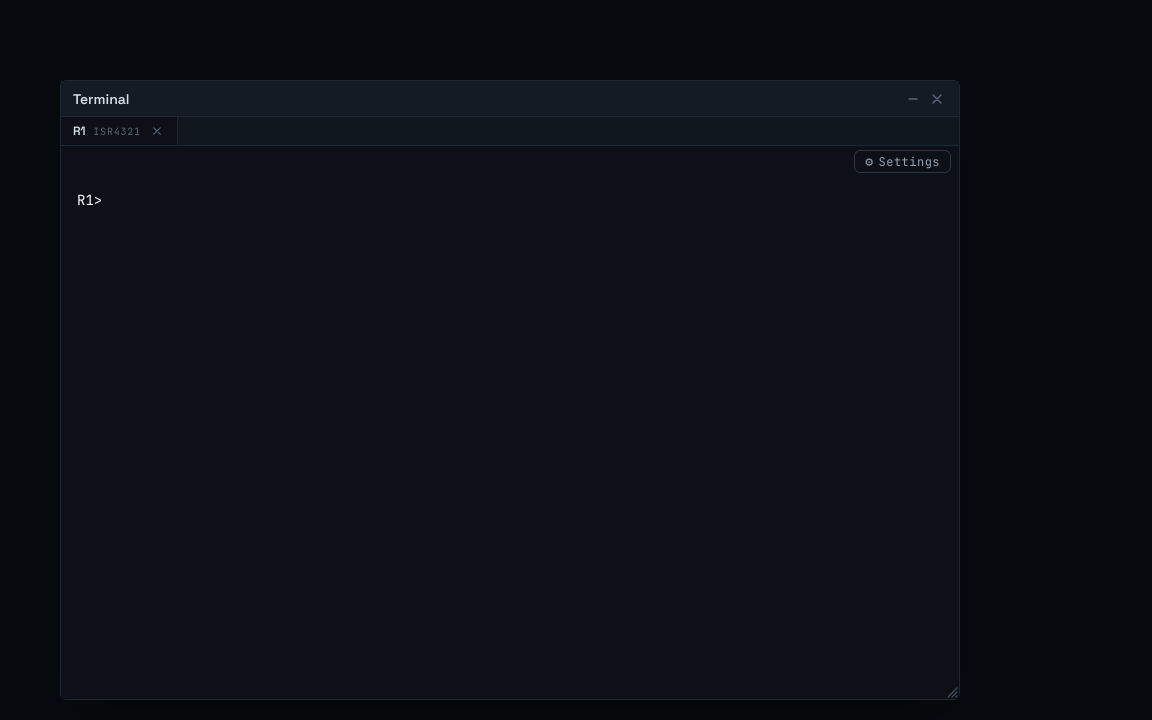
it: FloatingTerminalPanel › minimized snap-bar uses singular "device" when only one tab is open
The width and height of the screenshot is (1152, 720).
Click the button named "Minimize terminal".
click(913, 98)  # box [903, 88, 923, 108]
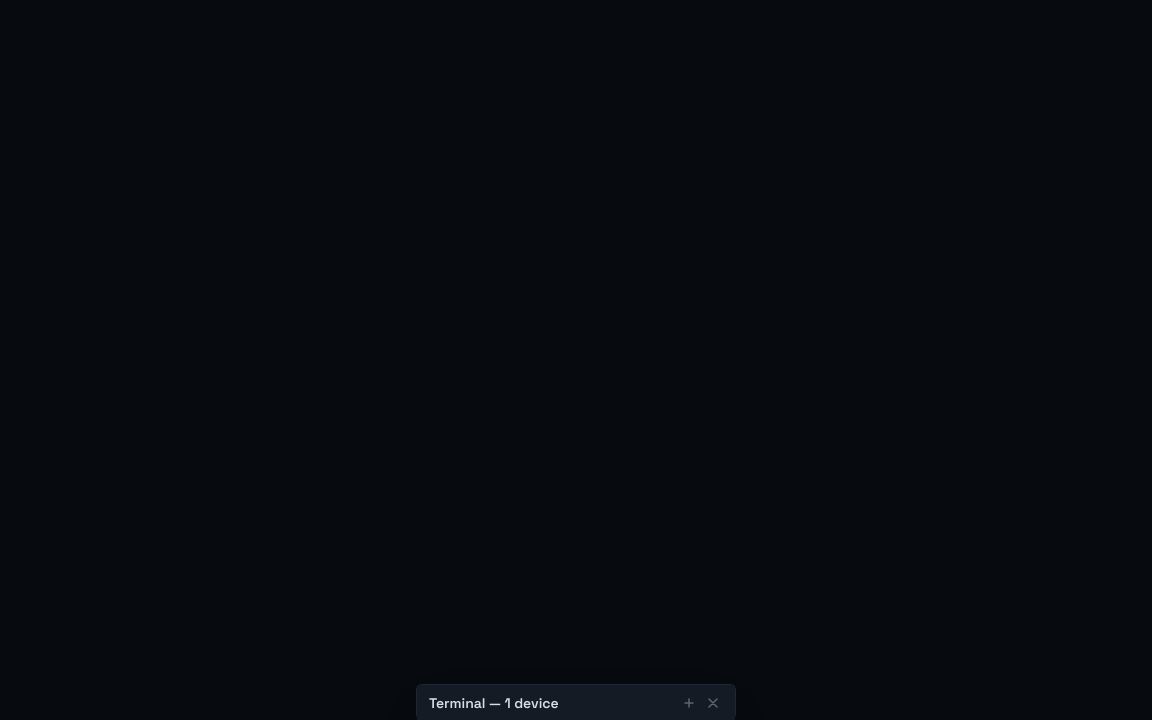
Expected: the text "Terminal — 1 device" is shown, [429, 692, 559, 712]
